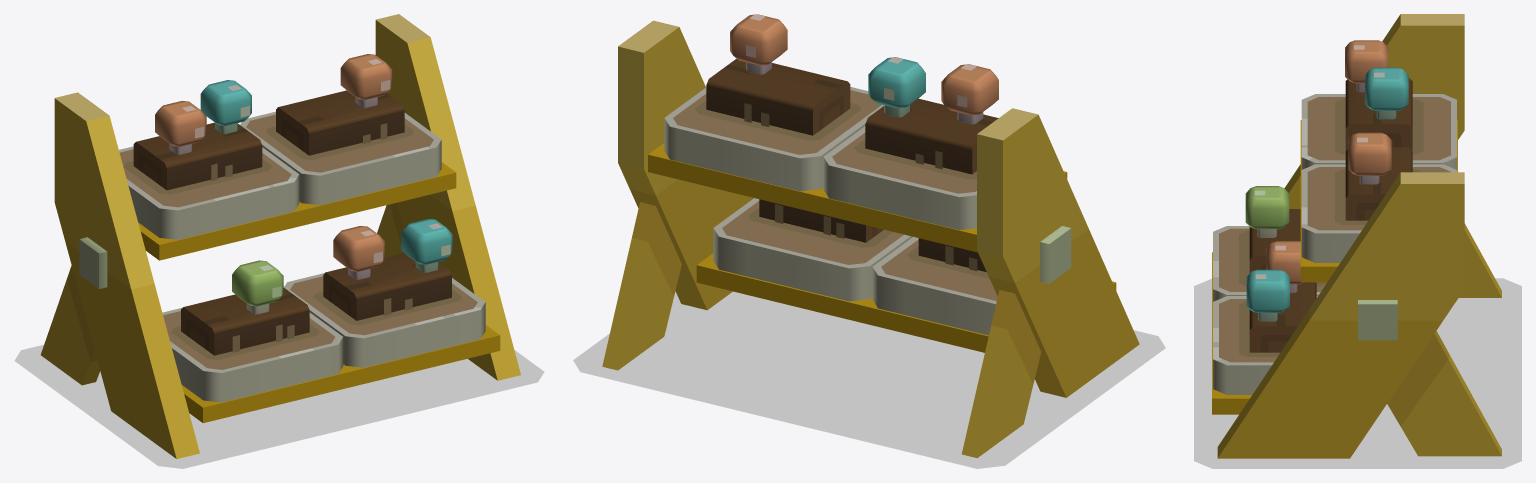
File: GG_makeover_S_shrub_3.fbx
The picture shows the model from 3 angles, left to right: view 1: azimuth 30°, elevation 25°; view 2: azimuth 150°, elevation 25°; view 3: azimuth 270°, elevation 25°; orthographic projection. The views are drawn at different scales.
Parts seen in each view (by area): view 1: model, ground, model3, model5, model6, model4, model1, model2; view 2: model, ground, model1, model2, model3; view 3: model, ground, model4, model3, model2, model6, model1, model5.
Part boxes in pixels (bbox=[...]): model: bbox=[40, 14, 520, 458]; ground: bbox=[14, 286, 544, 468]; model3: bbox=[340, 54, 392, 108]; model5: bbox=[333, 226, 384, 279]; model6: bbox=[401, 219, 452, 272]; model4: bbox=[232, 260, 283, 314]; model1: bbox=[155, 100, 206, 154]; model2: bbox=[200, 80, 251, 134]; model: bbox=[602, 20, 1139, 458]; ground: bbox=[573, 291, 1165, 468]; model1: bbox=[941, 64, 998, 124]; model2: bbox=[868, 57, 925, 117]; model3: bbox=[730, 14, 787, 74]; model: bbox=[1212, 14, 1501, 458]; ground: bbox=[1194, 278, 1521, 468]; model4: bbox=[1245, 186, 1289, 237]; model3: bbox=[1348, 132, 1391, 184]; model2: bbox=[1365, 67, 1408, 119]; model6: bbox=[1246, 269, 1289, 321]; model1: bbox=[1345, 40, 1388, 92]; model5: bbox=[1266, 241, 1303, 292].
Bounding box in the file's own units: 5.75 × 3.96 × 4.18.
